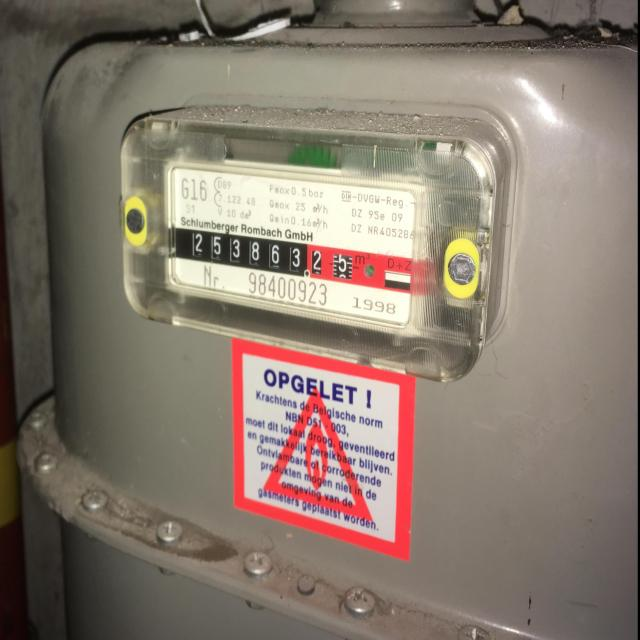gaz_meter: (166, 163, 424, 338)
indication: (183, 229, 355, 285)
